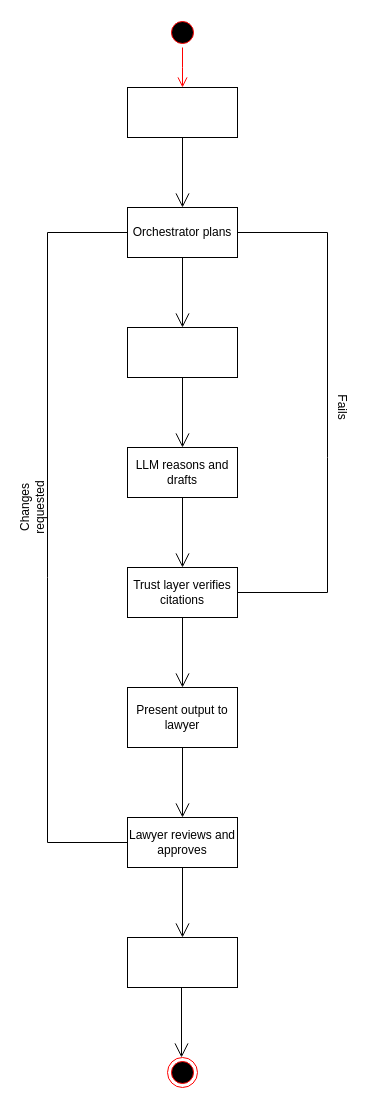
This 374x1105 diagram has some shape labels left out. Here are the shapes that lost their labels. From the top down, the centre of each, then its label:
At point 182,112: "Lawyer submits request".
At point 182,352: "Query retrieval layer".
At point 182,962: "Deliver final output".
